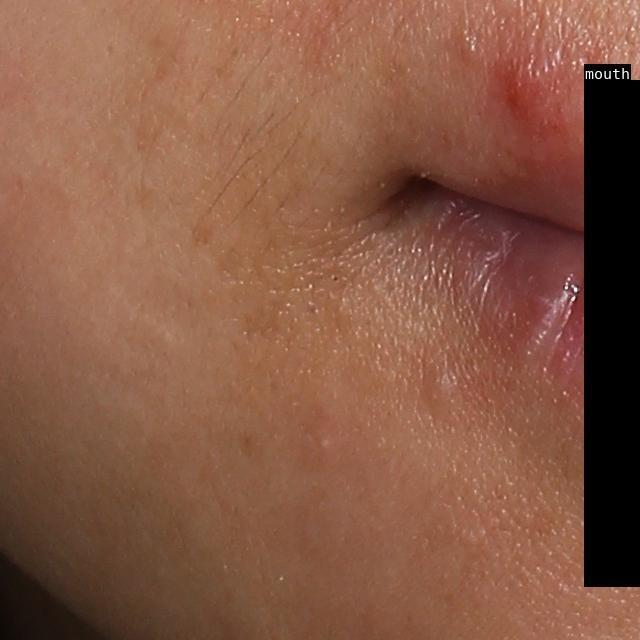comedo: (416, 363, 463, 408), (315, 434, 331, 452)
papule: (499, 58, 566, 128)
